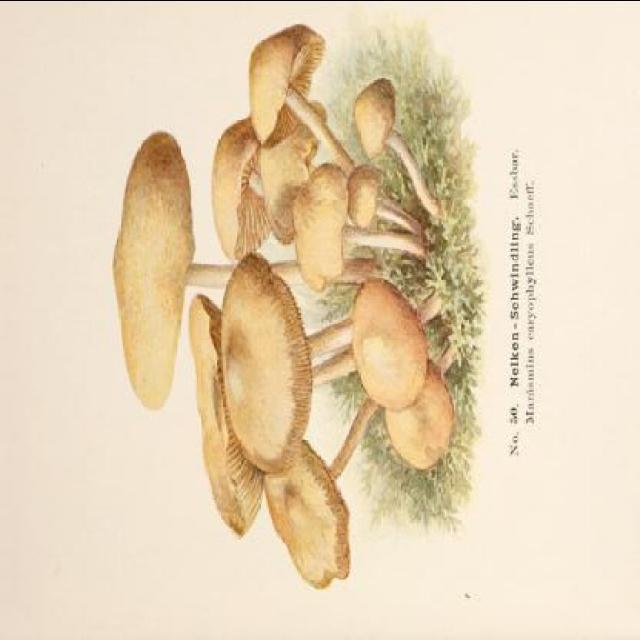Mushroom: (111, 22, 463, 588), (355, 280, 439, 408)
